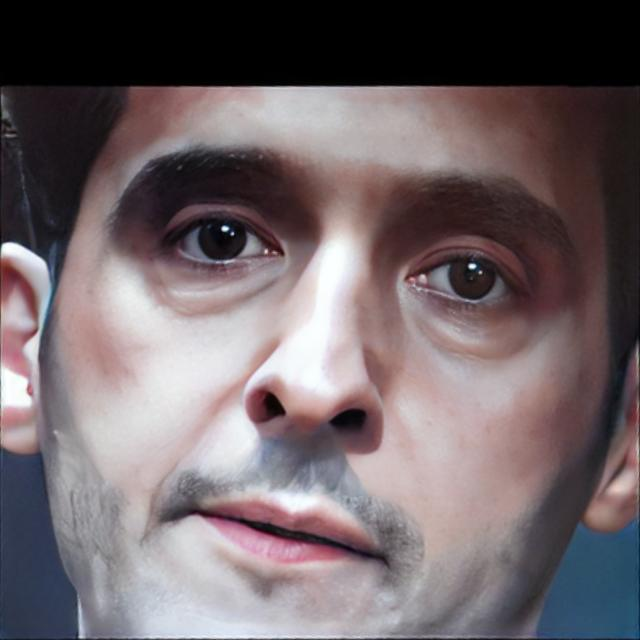neutral: (39, 83, 620, 640)
